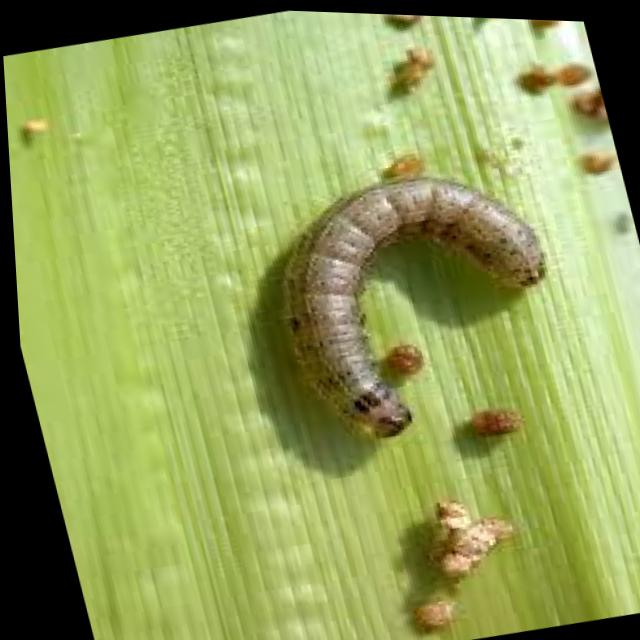Fall-Armyworm: (216, 131, 599, 468)
